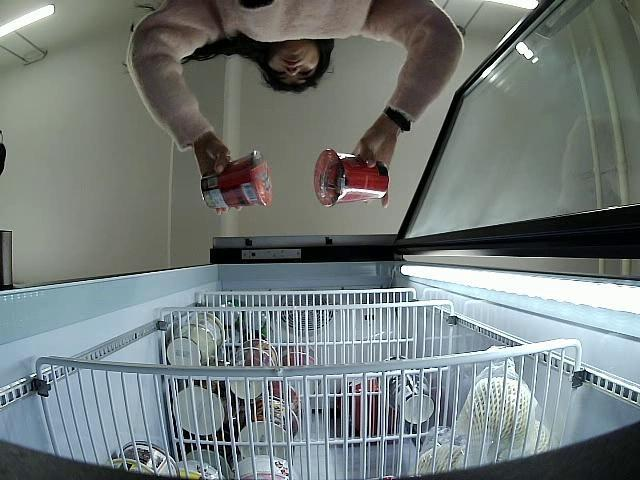02_shinRamen_S: (200, 147, 272, 208), (314, 148, 388, 206)
